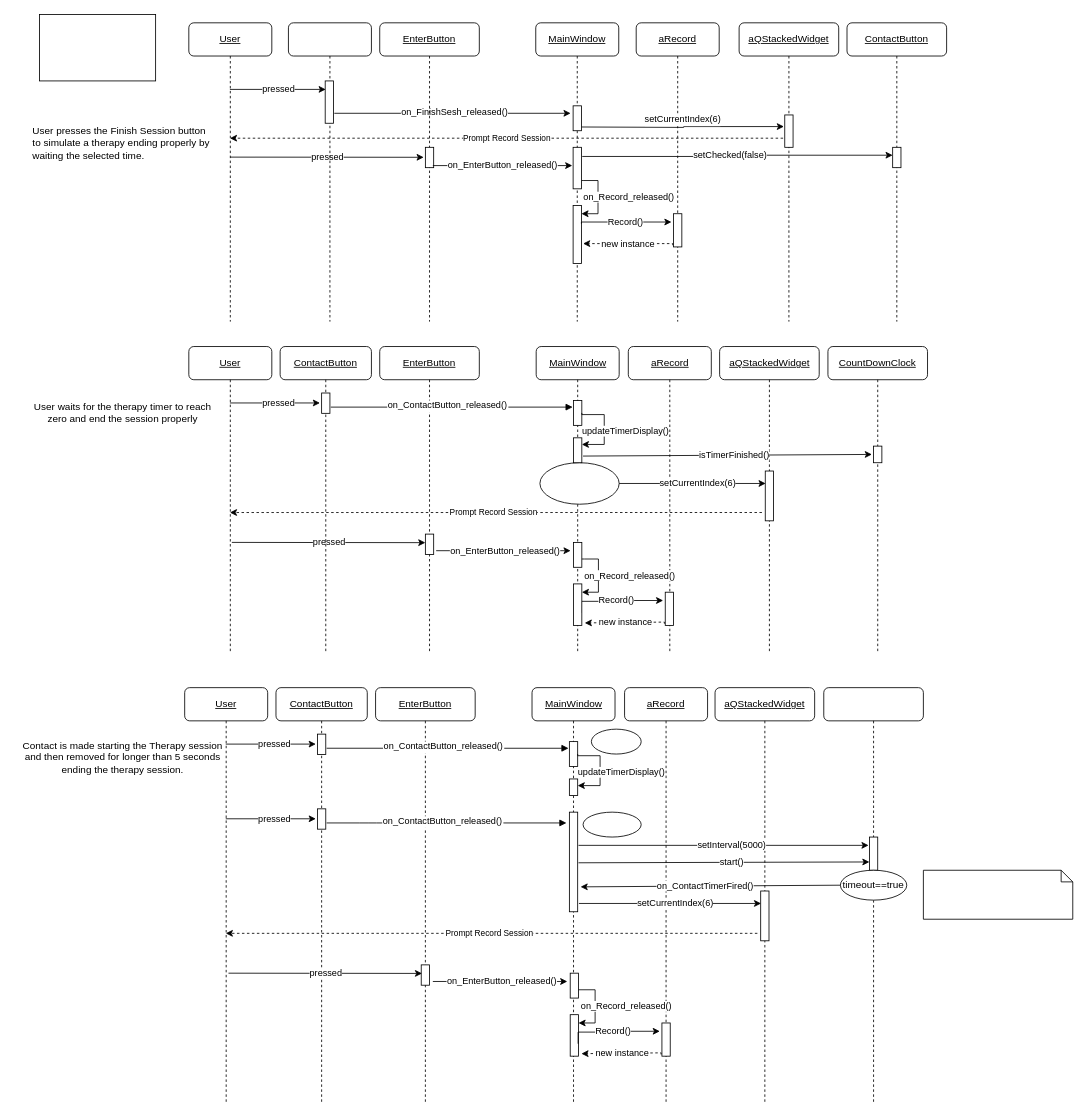
This 1087x1117 diagram has some shape labels left out. The shapes that lost their labels are listed below. From the top down, each one's box as (x1, y1, x2, y2) in pixels, then its label:
(39, 14, 156, 81): Record a new therapy Sequence Diagram (Use Case 6)
(288, 22, 371, 322): FinishSesh
(539, 462, 619, 504): isTimerFinished == true
(591, 728, 641, 754): Checked
(582, 811, 641, 837): Unchecked
(823, 687, 923, 1103): aQTimer
(923, 869, 1073, 919): When 5 seconds have passed and the timer is finished
